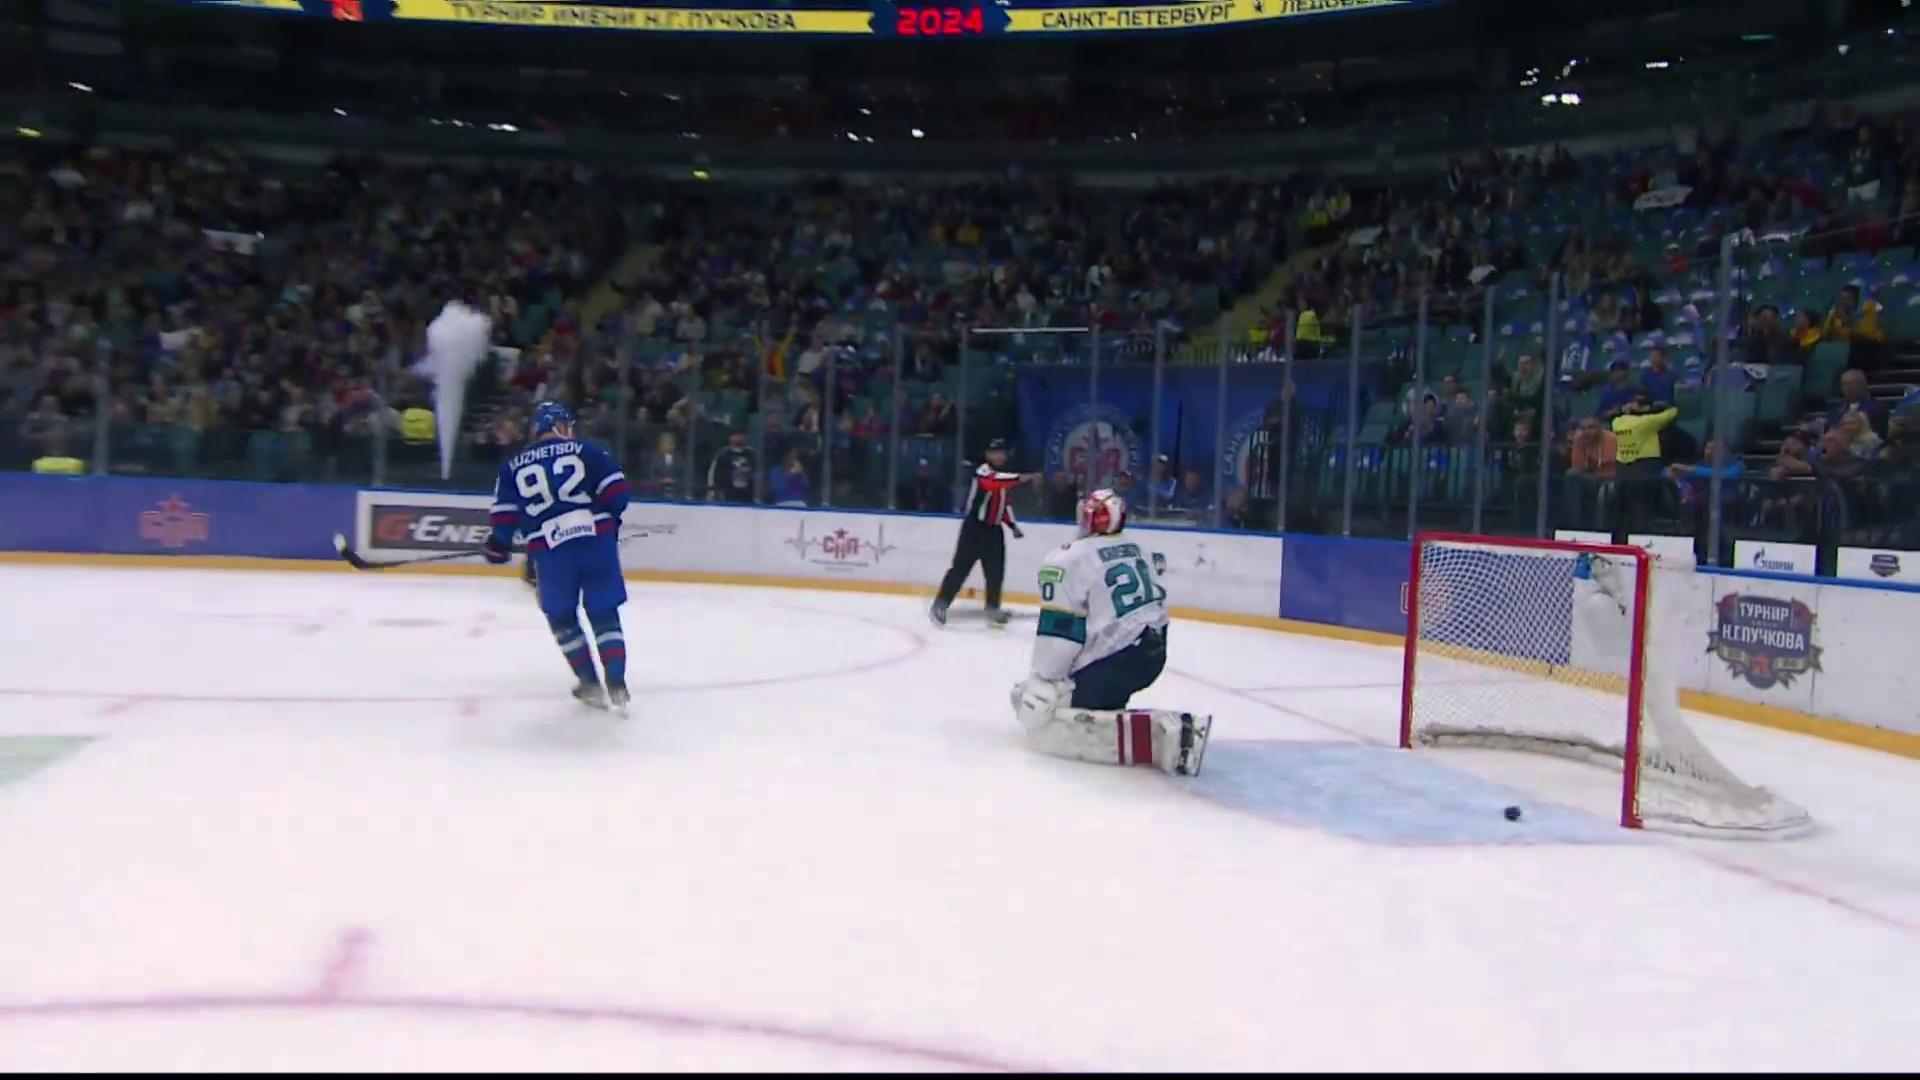ball: (1503, 806, 1522, 824)
